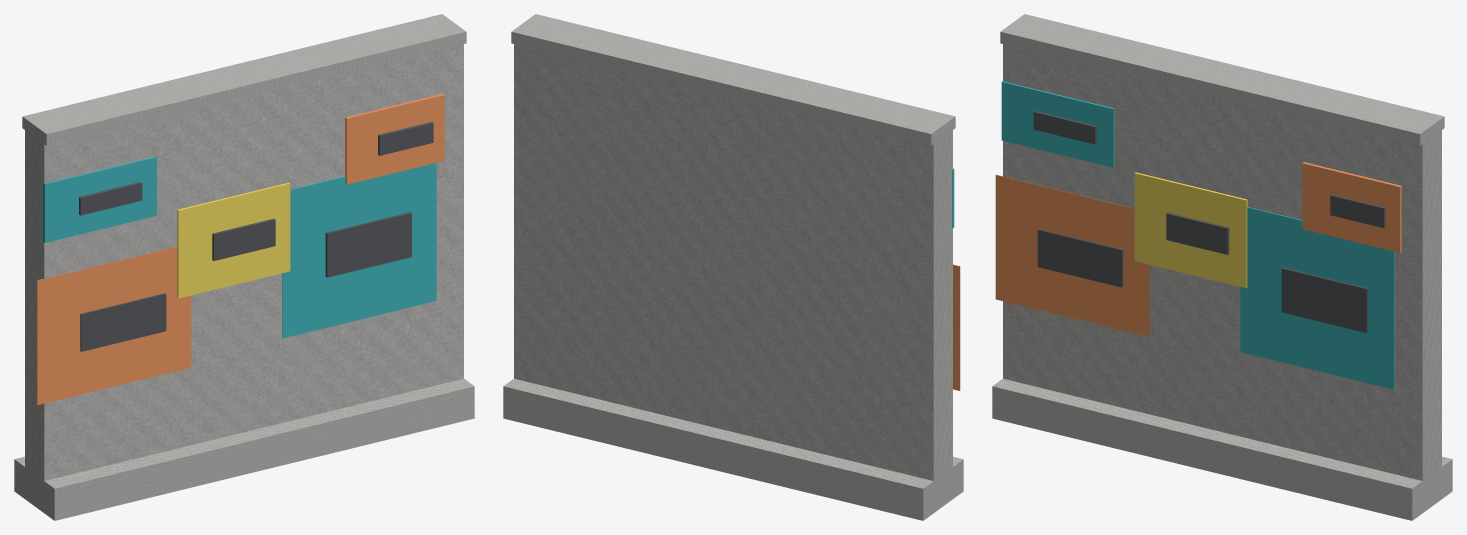
File: skate-park-and-street-sports-graffiti-wall-panel-6314bb2b__33545.glb
3 views of the same model, side by side, from view 1: azimuth 30°, elevation 25°; view 2: azimuth 150°, elevation 25°; view 3: azimuth 330°, elevation 25° (orthographic).
Parts seen in each view (by area): view 1: graffiti-wall-panel-concrete, graffiti-wall-panel-teal, graffiti-wall-panel-sunset, graffiti-wall-panel-charcoal, graffiti-wall-panel-canary; view 2: graffiti-wall-panel-concrete, graffiti-wall-panel-sunset; view 3: graffiti-wall-panel-concrete, graffiti-wall-panel-teal, graffiti-wall-panel-sunset, graffiti-wall-panel-charcoal, graffiti-wall-panel-canary.
Part boxes in pixels (left/top/right/bottom): graffiti-wall-panel-concrete: left=14, top=14, right=474, bottom=520; graffiti-wall-panel-teal: left=43, top=156, right=436, bottom=338; graffiti-wall-panel-sunset: left=37, top=94, right=444, bottom=405; graffiti-wall-panel-charcoal: left=79, top=122, right=433, bottom=351; graffiti-wall-panel-canary: left=177, top=182, right=290, bottom=298; graffiti-wall-panel-concrete: left=503, top=14, right=963, bottom=520; graffiti-wall-panel-sunset: left=953, top=264, right=960, bottom=390; graffiti-wall-panel-concrete: left=992, top=14, right=1452, bottom=520; graffiti-wall-panel-teal: left=1001, top=81, right=1394, bottom=389; graffiti-wall-panel-sunset: left=995, top=162, right=1401, bottom=336; graffiti-wall-panel-charcoal: left=1033, top=111, right=1385, bottom=332; graffiti-wall-panel-canary: left=1134, top=172, right=1247, bottom=288.
Bounding box in the file's own units: 3.05 × 2.6 × 0.4999.
5 materials, 1 textured.
